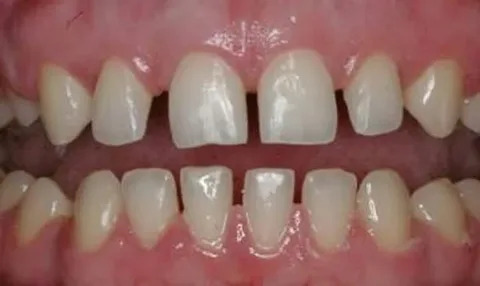Gap: (110, 74, 199, 148), (215, 78, 289, 149), (308, 71, 375, 139), (145, 166, 202, 229), (208, 166, 266, 224), (271, 168, 325, 227)
